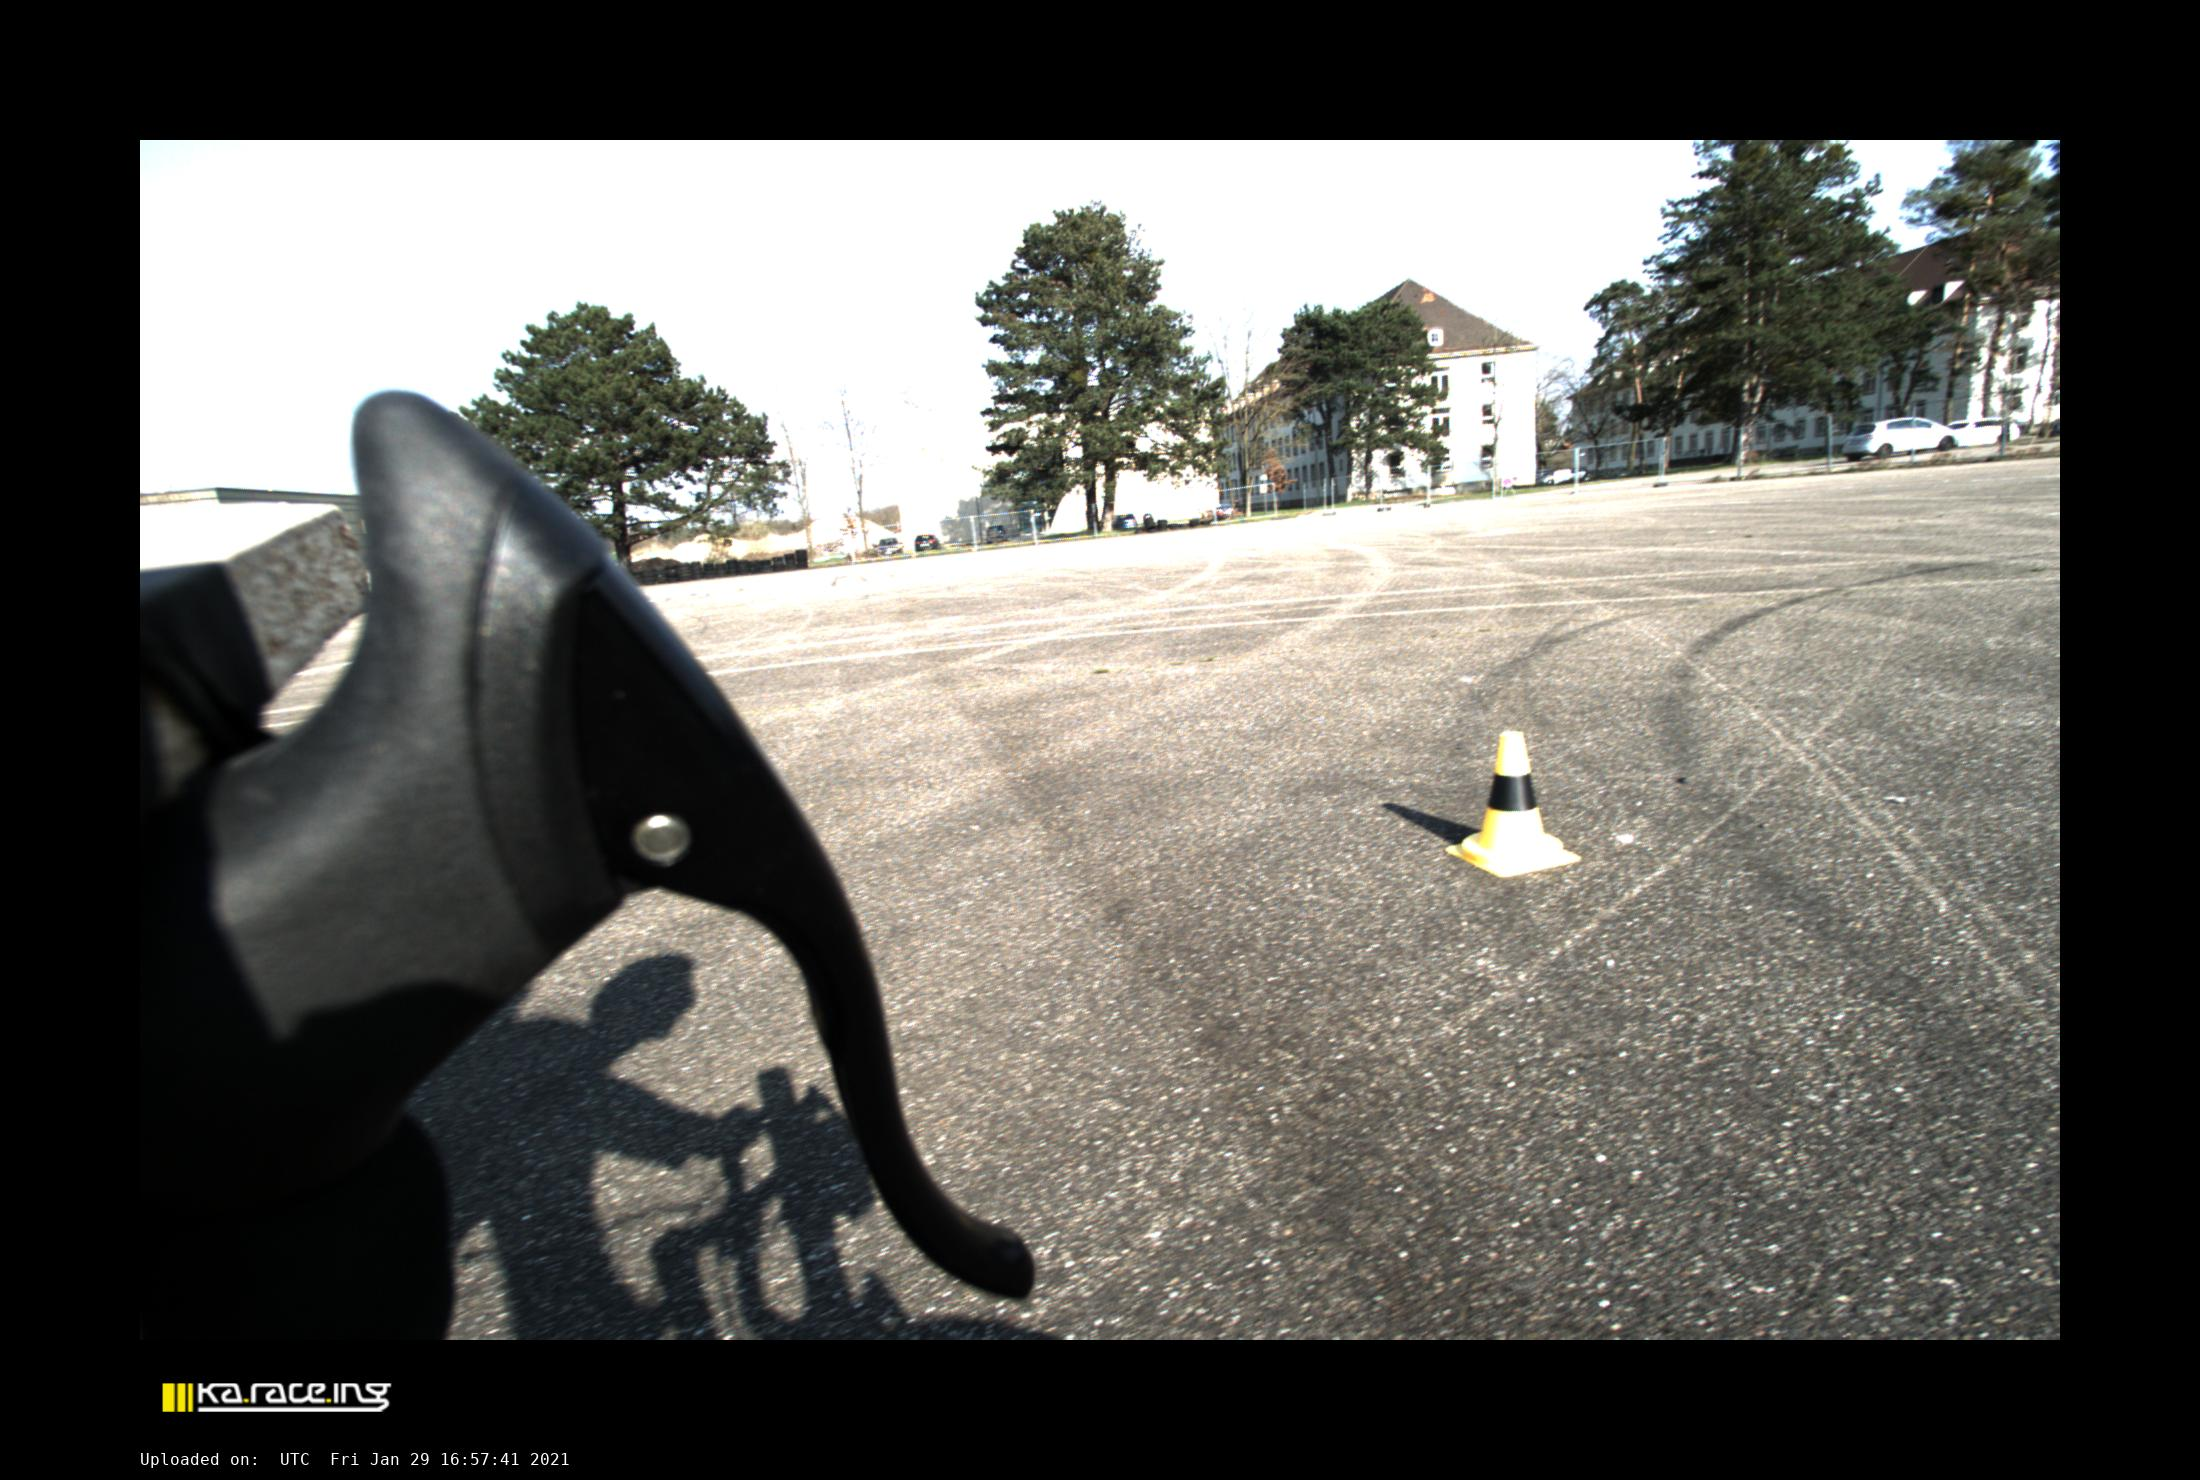yellow_cone: (1445, 732, 1581, 877)
